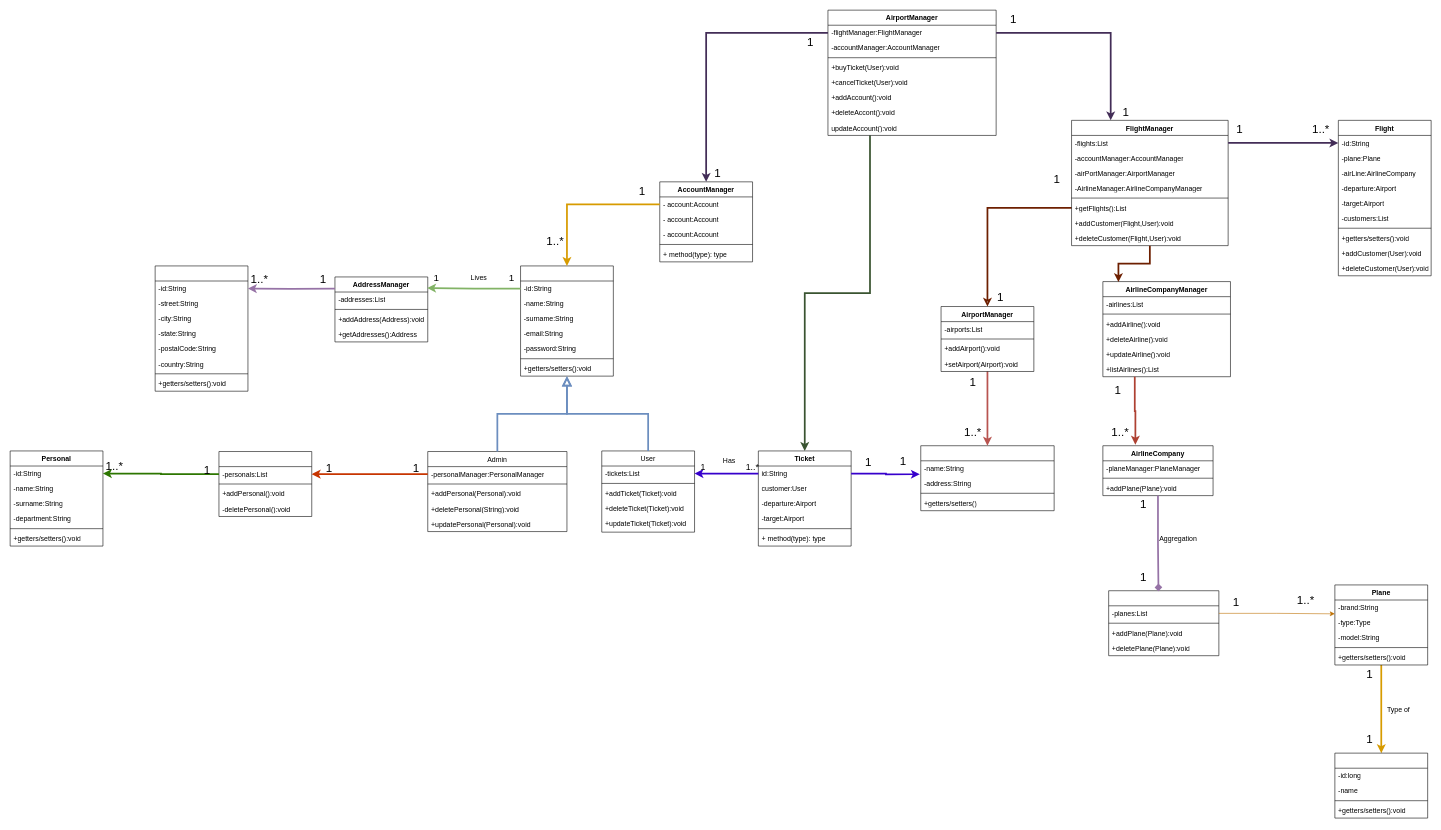
The diagram is 1441 pixels wide and 830 high, and some of its shapes have lost their labels. Each missing label, with the box of its shape:
Account: (520, 265, 613, 376)
Address: (155, 265, 248, 391)
Airport: (920, 445, 1054, 511)
PersonalManager: (218, 451, 312, 516)
PlaneManager: (1108, 590, 1219, 656)
PlaneType: (1334, 753, 1428, 818)
